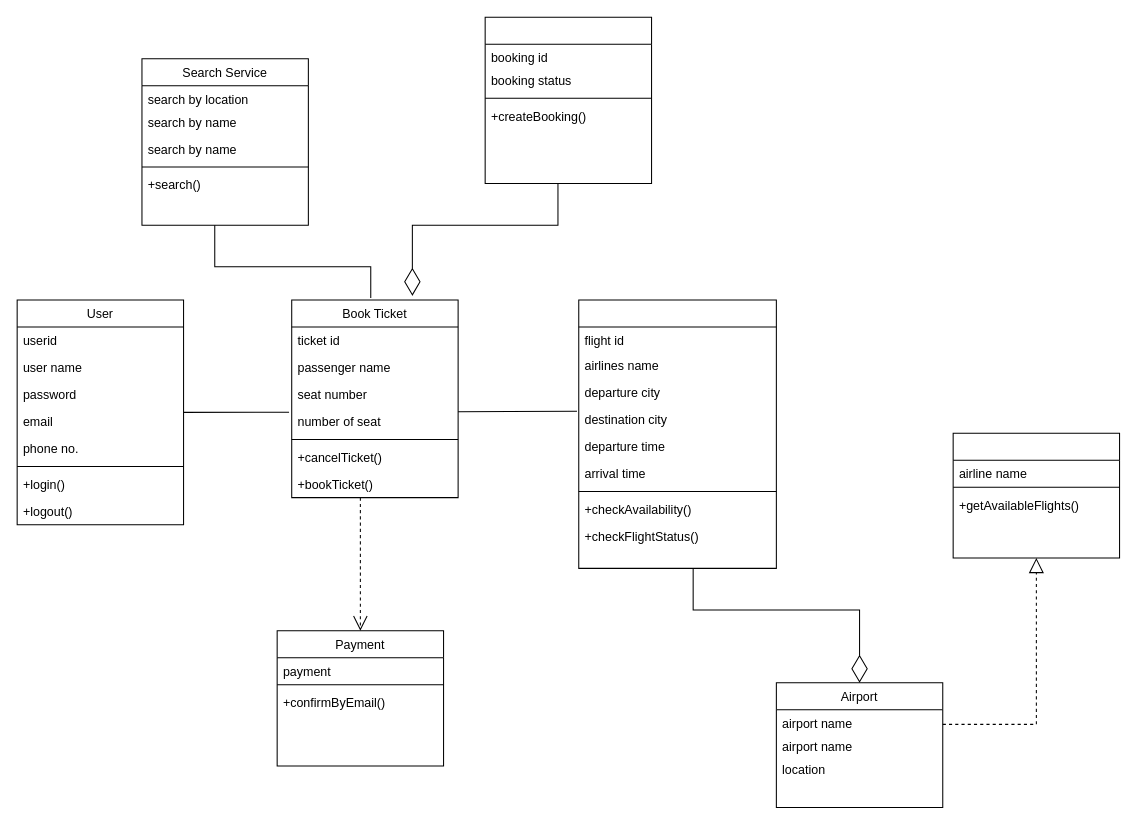
Image size: 1137x825. Some labels were removed from this diagram. Here are the shapes that lost their labels. From the top down, the box of each, then its label:
(484, 16, 652, 184): Booking System
(578, 299, 776, 568): Flight Details
(952, 432, 1120, 558): Airline Company
